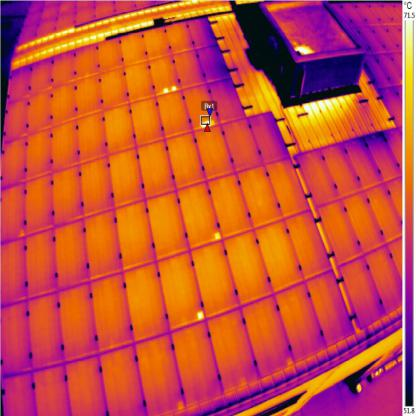Defects: (213, 227, 225, 248), (301, 44, 312, 60), (198, 306, 206, 326)
